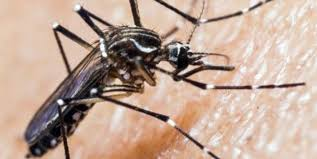dengue_mosquito: (24, 1, 267, 158)
